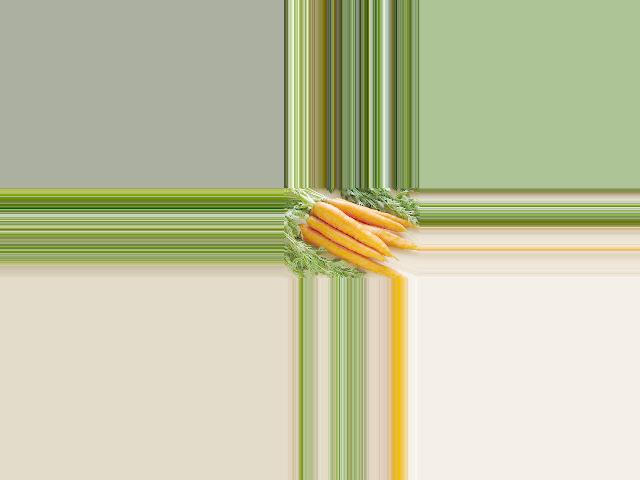carrot: (293, 224, 405, 279)
